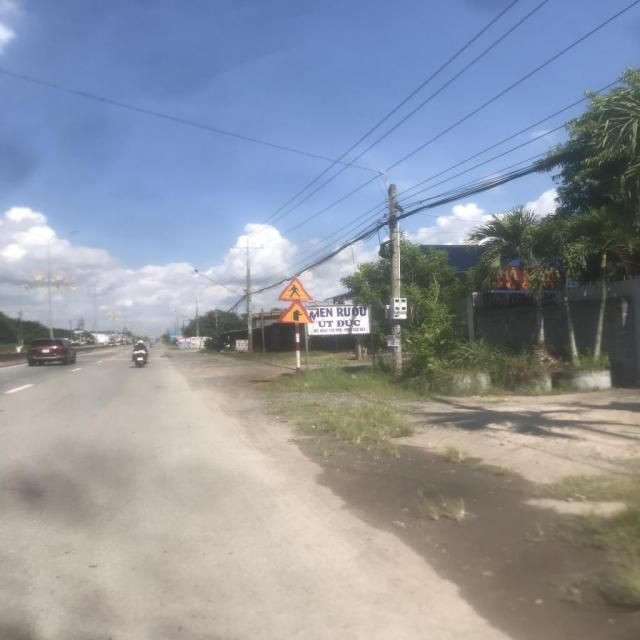chu_y_nguoi_di_bo_cat_ngang: (279, 274, 316, 300)
giao_nhau_voi_duong_khong_uu_tien: (277, 299, 317, 323)
